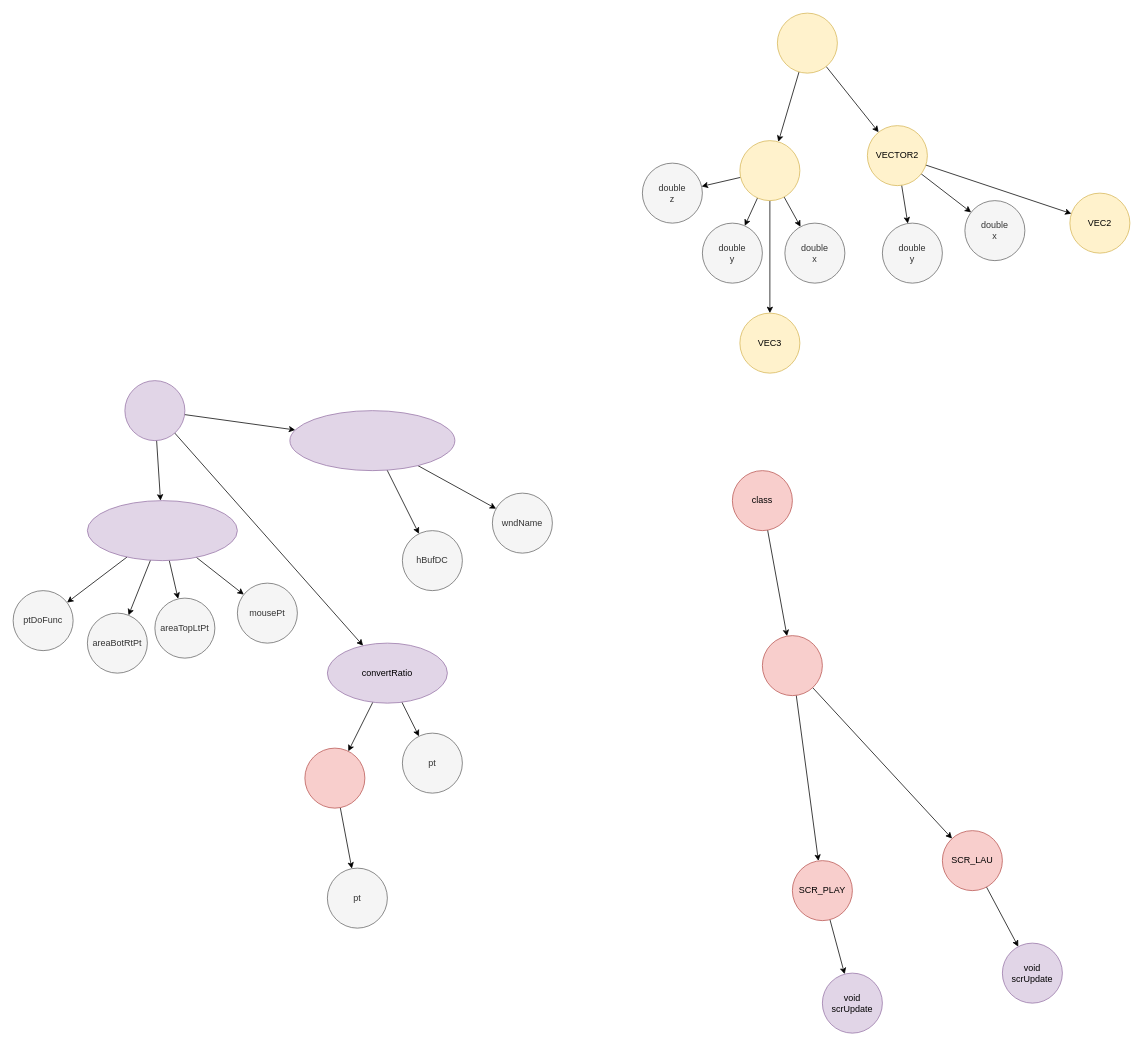
Image size: 1143x1046. Some labels were removed from this diagram. Here are the shapes that lost their labels. From the top down, the centre of each, then its label:
[807,42]: struct
[769,170]: VECTOR3
[154,410]: function
[372,440]: scrDwgContModif
[162,530]: rectAreaFuncChkAndRun
[792,665]: SCREEN
[334,777]: return
